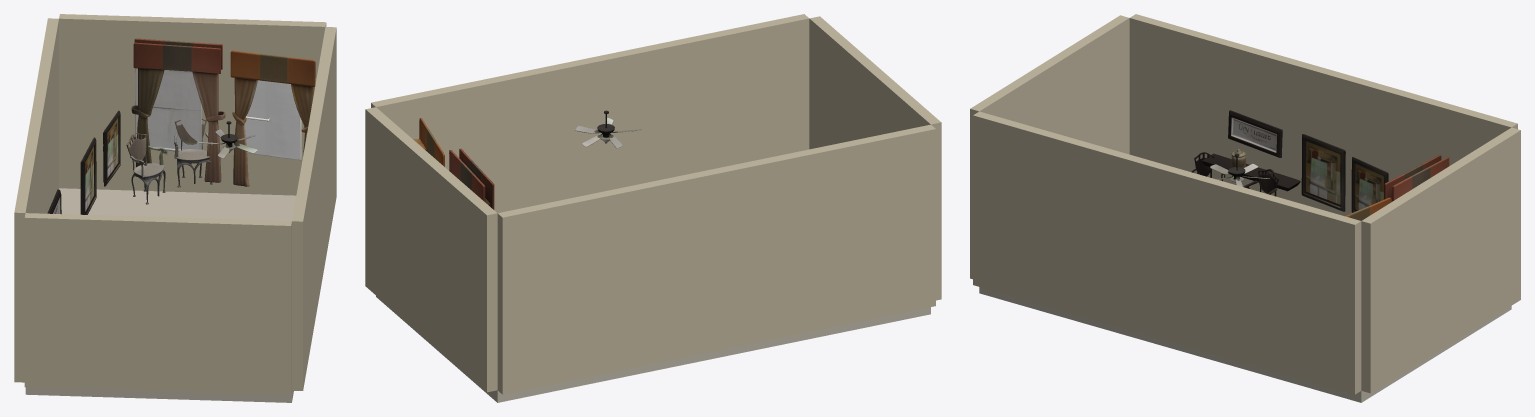
The model's file is stage2.glb.
The picture shows the model from 3 angles, left to right: view 1: azimuth 30°, elevation 25°; view 2: azimuth 150°, elevation 25°; view 3: azimuth 270°, elevation 25°; orthographic projection. The views are drawn at different scales.
Visible parts, largest first — view 1: Wall_01, Floor, geometry_0.013, geometry_0.011, geometry_0.007, geometry_0.012, geometry_0.014, geometry_0.003, geometry_0.001; view 2: Wall_01, Floor, geometry_0.013, geometry_0.001, geometry_0.011; view 3: Wall_01, geometry_0.003, Floor, geometry_0.002, geometry_0.013, geometry_0.005, geometry_0.001.
Part boxes in pixels (left/top/right/bottom): Wall_01: left=14, top=14, right=336, bottom=395; Floor: left=25, top=188, right=296, bottom=402; geometry_0.013: left=131, top=38, right=225, bottom=182; geometry_0.011: left=230, top=50, right=315, bottom=186; geometry_0.007: left=245, top=80, right=301, bottom=160; geometry_0.012: left=135, top=68, right=201, bottom=151; geometry_0.014: left=126, top=119, right=212, bottom=204; geometry_0.003: left=80, top=110, right=120, bottom=214; geometry_0.001: left=196, top=121, right=257, bottom=158; Wall_01: left=365, top=14, right=941, bottom=394; Floor: left=376, top=296, right=930, bottom=402; geometry_0.013: left=449, top=148, right=494, bottom=209; geometry_0.001: left=575, top=110, right=641, bottom=148; geometry_0.011: left=413, top=118, right=444, bottom=166; Wall_01: left=970, top=14, right=1520, bottom=394; geometry_0.003: left=1301, top=134, right=1388, bottom=212; Floor: left=979, top=287, right=1511, bottom=402; geometry_0.002: left=1228, top=110, right=1282, bottom=157; geometry_0.013: left=1384, top=155, right=1449, bottom=201; geometry_0.005: left=1202, top=153, right=1300, bottom=191; geometry_0.001: left=1210, top=153, right=1269, bottom=186.
Bounding box in the file's own units: 11.13 × 4.48 × 12.28.
Materials: 16 (14 with a texture image).
